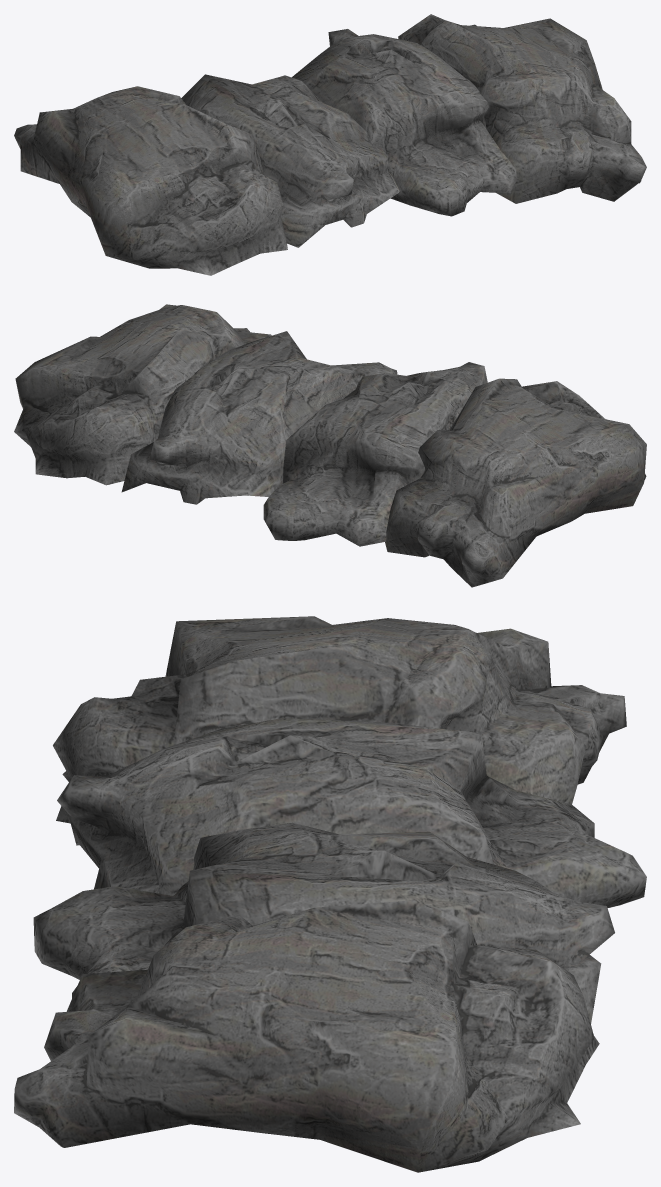
Rendered from Rock_06_Grp.fbx.
The picture shows the model from 3 angles, top to bottom: view 1: azimuth 30°, elevation 25°; view 2: azimuth 150°, elevation 25°; view 3: azimuth 270°, elevation 25°; orthographic projection. The views are drawn at different scales.
Parts seen in each view (by area): view 1: Rock_06_Grp; view 2: Rock_06_Grp; view 3: Rock_06_Grp.
Part boxes in pixels (bbox=[...]): Rock_06_Grp: bbox=[14, 14, 646, 275]; Rock_06_Grp: bbox=[14, 304, 646, 587]; Rock_06_Grp: bbox=[14, 616, 646, 1172].
Bounding box in the file's own units: 12.12 × 2.65 × 7.19.
